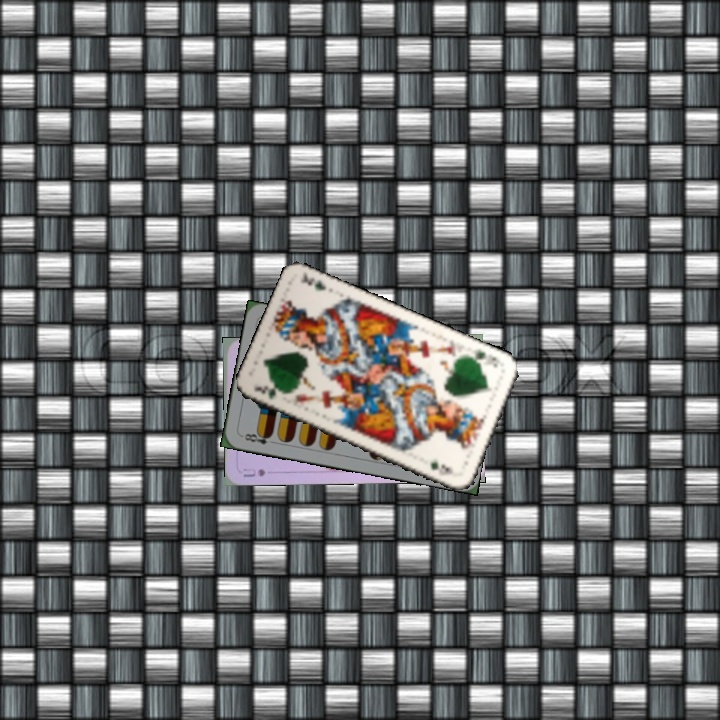E8: (238, 428, 278, 447)
GK: (467, 346, 502, 370), (249, 382, 279, 403)
SU: (239, 464, 268, 480)
